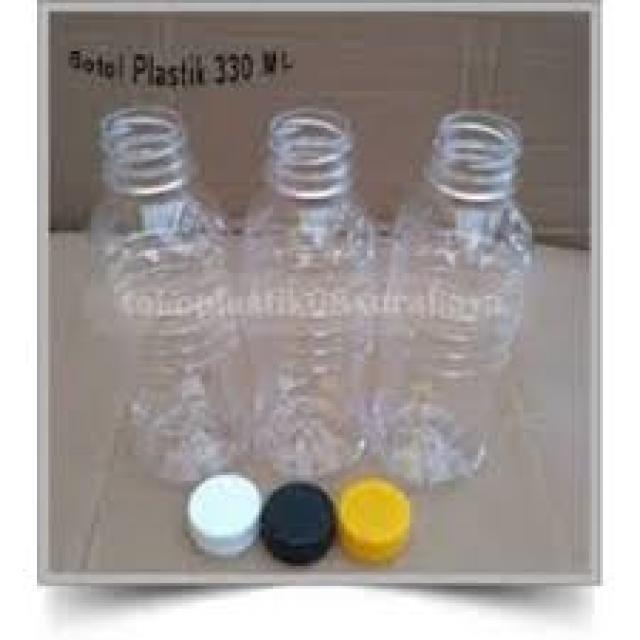good: (76, 107, 250, 472), (395, 104, 524, 487), (256, 109, 388, 467)
